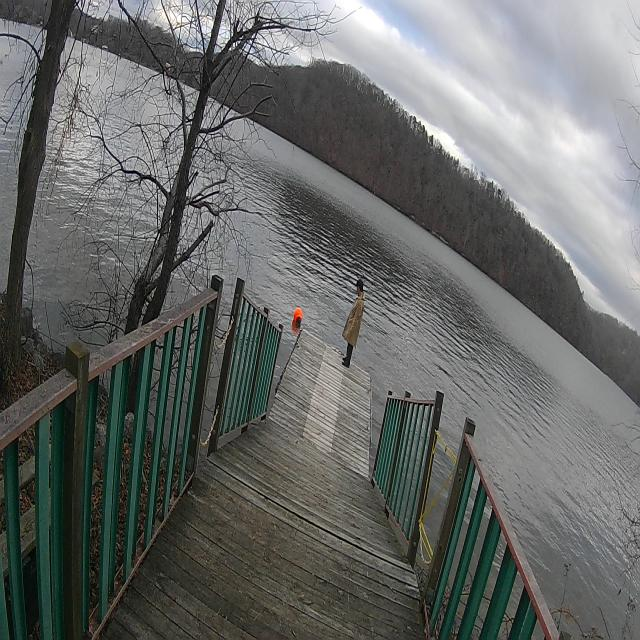Buoy: (292, 303, 304, 329)
